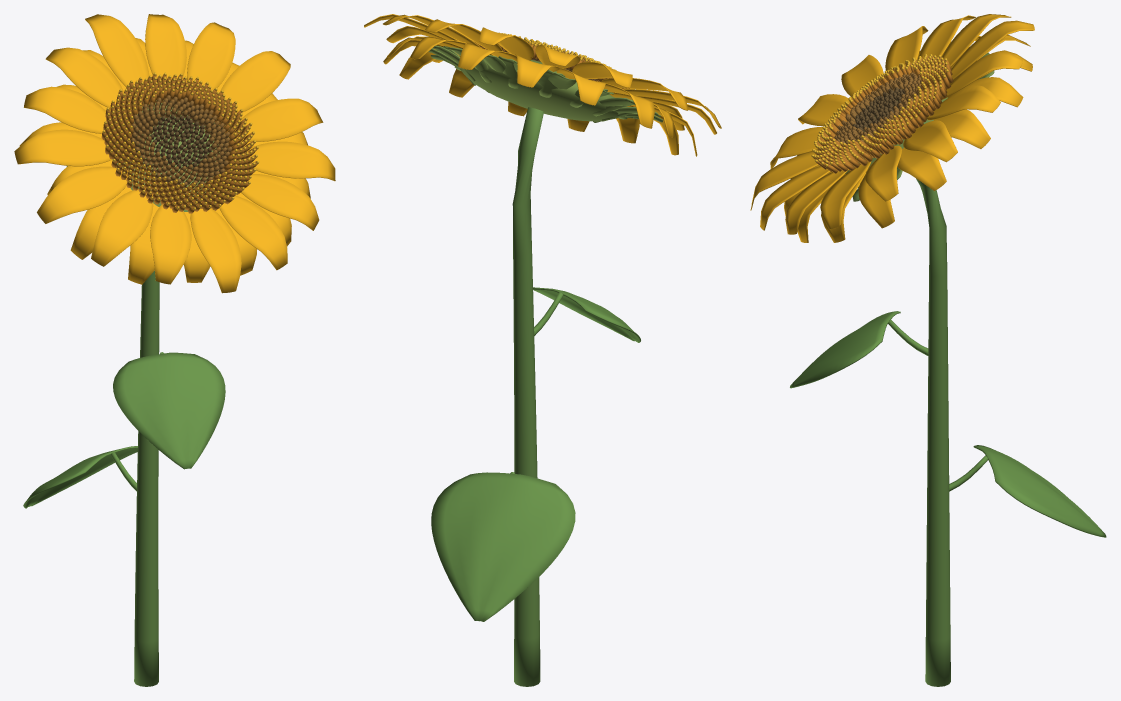
Rendered from flower-helianthus.glb.
The picture shows the model from 3 angles, left to right: view 1: azimuth 30°, elevation 25°; view 2: azimuth 150°, elevation 25°; view 3: azimuth 270°, elevation 25°; orthographic projection. The views are drawn at different scales.
Visible parts, largest first — view 1: hero_rays, leaves, hero_disc_open, stem, hero_disc_center, head_back_full; view 2: leaves, hero_rays, stem, head_back_full, hero_disc_open; view 3: hero_rays, stem, leaves, hero_disc_open, hero_disc_center.
Boxes of the visible parts, x1,y1,x2,y2 form: hero_rays: [14, 14, 335, 293]; leaves: [23, 352, 225, 508]; hero_disc_open: [101, 72, 259, 213]; stem: [134, 270, 159, 686]; hero_disc_center: [130, 95, 232, 188]; head_back_full: [66, 100, 239, 211]; leaves: [431, 287, 640, 621]; hero_rays: [364, 14, 721, 156]; stem: [512, 107, 543, 686]; head_back_full: [428, 45, 663, 122]; hero_disc_open: [473, 32, 629, 88]; hero_rays: [750, 14, 1034, 242]; stem: [916, 178, 950, 686]; leaves: [790, 311, 1106, 537]; hero_disc_open: [811, 54, 953, 173]; hero_disc_center: [834, 72, 922, 143].
Bounding box in the file's own units: 15.06 × 30.99 × 15.31.
